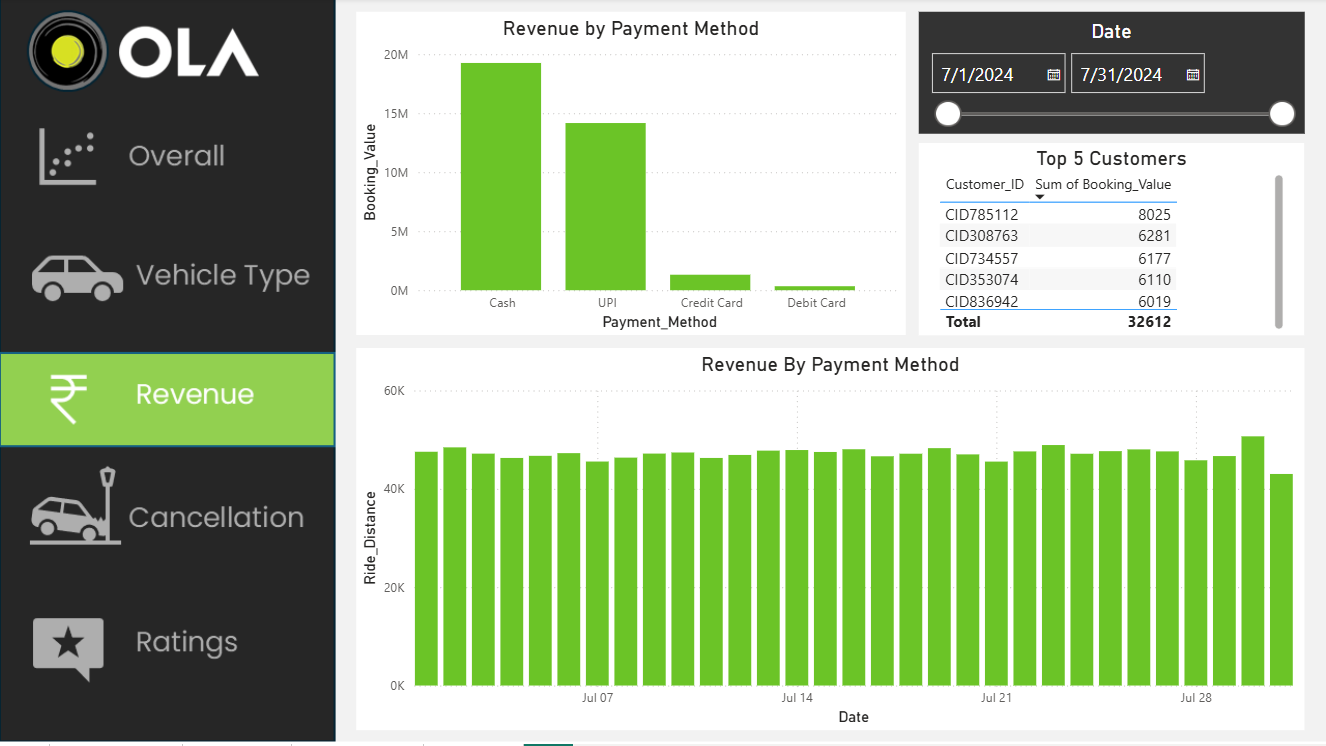

The dashboard page shown, as its layout file describes it:
{"tool":"powerbi","page":{"name":"Revenue","canvas":[1280,720],"ordinal":2},"visuals":[{"type":"columnChart","title":"Revenue by Payment Method","fields":{"Y":["Sum(July.Booking_Value)"],"Category":["July.Payment_Method"]},"box":[343.5,12.8,530.2,312.2],"z":0},{"type":"columnChart","title":"Revenue By Payment Method","fields":{"Y":["Sum(July.Ride_Distance)"],"Category":["July.Date"]},"box":[343.5,337.8,915.1,369.2],"z":1000},{"type":"slicer","title":"Date","fields":{"Values":["July.Date"]},"box":[886.6,12.8,372,116.9],"z":2000},{"type":"tableEx","title":"Top 5 Customers","fields":{"Values":["July.Customer_ID","Sum(July.Booking_Value)"]},"box":[886.6,139.7,372,185.3],"z":3000},{"type":"actionButton","box":[0,111.2,326.4,86.9],"z":4000},{"type":"actionButton","box":[0,230.9,326.4,86.9],"z":5000},{"type":"actionButton","box":[0,453.3,326.4,86.9],"z":6000},{"type":"actionButton","box":[0,588.7,326.4,86.9],"z":7000}]}

Visuals, with their boxes on the page's 1280x720 design canvas (x1, y1, x2, y2). These are canvas units, not pixel positions in the 1326x746 screenshot, which may show the page scaled, cropped or inside an application window:
"Revenue by Payment Method" columnChart: l=344, t=13, r=874, b=325
"Revenue By Payment Method" columnChart: l=344, t=338, r=1259, b=707
"Date" slicer: l=887, t=13, r=1259, b=130
"Top 5 Customers" tableEx: l=887, t=140, r=1259, b=325
actionButton: l=0, t=111, r=326, b=198
actionButton: l=0, t=231, r=326, b=318
actionButton: l=0, t=453, r=326, b=540
actionButton: l=0, t=589, r=326, b=676
